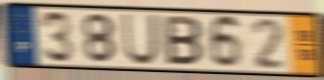2: (249, 17, 287, 71)
3: (39, 9, 76, 65)
6: (206, 13, 245, 72)
8: (81, 12, 117, 65)
B: (163, 14, 204, 68)
U: (120, 12, 161, 67)
